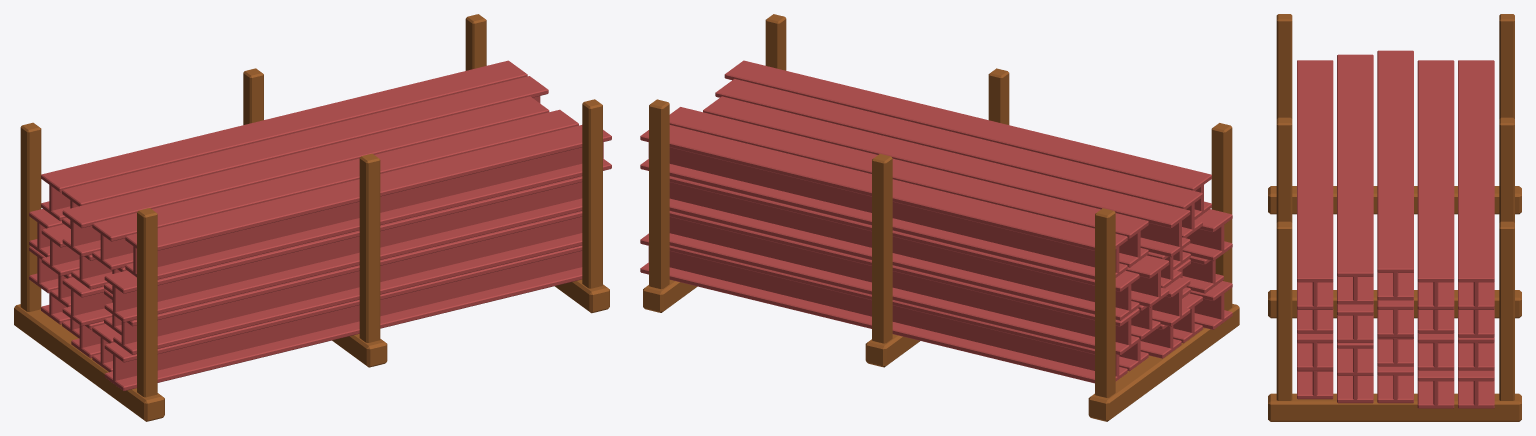
Rendered from Steel Holder .fbx.
3 views of the same model, side by side, from view 1: azimuth 30°, elevation 25°; view 2: azimuth 150°, elevation 25°; view 3: azimuth 270°, elevation 25° (orthographic). The views are drawn at different scales.
Parts seen in each view (by area): view 1: Steel Holder; view 2: Steel Holder; view 3: Steel Holder.
Part boxes in pixels (bbox=[...]): Steel Holder: bbox=[14, 14, 611, 421]; Steel Holder: bbox=[640, 14, 1239, 421]; Steel Holder: bbox=[1268, 14, 1521, 421].
Size of the model in its own units: 427 by 170 by 201.
